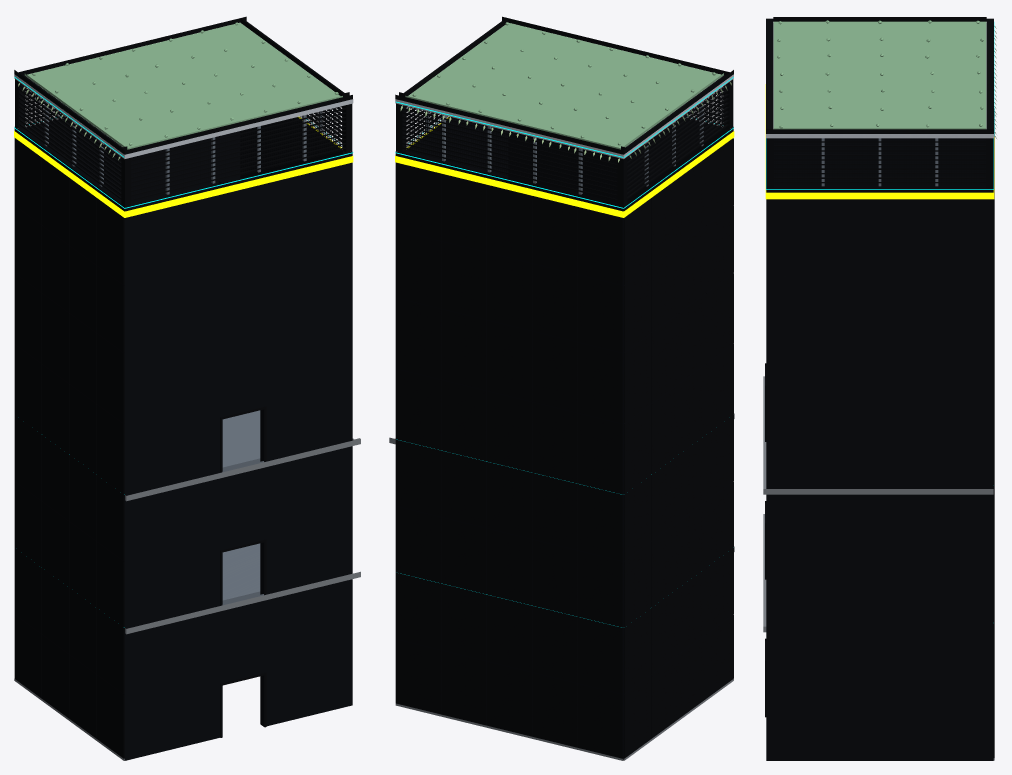
The model's file is tt_services_plant_stack_sw.glb.
3 renders of one model, left to right at view 1: azimuth 30°, elevation 25°; view 2: azimuth 150°, elevation 25°; view 3: azimuth 270°, elevation 25°, orthographic. The views are drawn at different scales.
Parts seen in each view (by area): view 1: Stack_Walls, Clad_Panels, Sedum_Roof, Louvre_Blades, Bird_Net_Scissor, Stack_Gratings, Cap_Rim, Slab_Closure, Hazard_Band, Cap_Slab, Door_Frames, Louvre_Posts (+1 smaller); view 2: Clad_Panels, Sedum_Roof, Stack_Walls, Louvre_Blades, Bird_Net_Scissor, Cap_Rim, Hazard_Band, Cap_Slab, Louvre_Posts, Louvre_Mullions, Clad_Plinth; view 3: Stack_Walls, Sedum_Roof, Louvre_Blades, Cap_Rim, Bird_Net_Scissor, Slab_Closure, Hazard_Band, Cap_Slab, Clad_Panels, Louvre_Posts, Door_Frames, Louvre_Mullions.
Part boxes in pixels (x1,y1,x2,y2): Stack_Walls: [14, 117, 352, 760]; Clad_Panels: [14, 139, 124, 758]; Sedum_Roof: [24, 22, 342, 149]; Louvre_Blades: [19, 85, 345, 200]; Bird_Net_Scissor: [24, 86, 342, 201]; Stack_Gratings: [222, 410, 263, 605]; Cap_Rim: [14, 16, 352, 154]; Slab_Closure: [125, 438, 360, 634]; Hazard_Band: [14, 116, 353, 217]; Cap_Slab: [14, 38, 353, 158]; Door_Frames: [220, 406, 266, 737]; Louvre_Posts: [15, 79, 352, 206]; Clad_Panels: [396, 139, 733, 758]; Sedum_Roof: [405, 22, 723, 149]; Stack_Walls: [395, 117, 733, 760]; Louvre_Blades: [402, 85, 729, 200]; Bird_Net_Scissor: [406, 86, 723, 201]; Cap_Rim: [395, 16, 733, 154]; Hazard_Band: [395, 116, 734, 217]; Cap_Slab: [395, 33, 733, 158]; Louvre_Posts: [396, 79, 733, 206]; Louvre_Mullions: [425, 101, 703, 194]; Clad_Plinth: [395, 679, 733, 760]; Stack_Walls: [766, 138, 993, 760]; Sedum_Roof: [773, 20, 986, 129]; Louvre_Blades: [774, 141, 985, 183]; Cap_Rim: [766, 17, 993, 133]; Bird_Net_Scissor: [774, 138, 985, 184]; Slab_Closure: [763, 376, 993, 632]; Hazard_Band: [765, 84, 994, 199]; Cap_Slab: [766, 23, 993, 138]; Clad_Panels: [993, 108, 994, 758]; Louvre_Posts: [766, 138, 993, 187]; Door_Frames: [765, 363, 766, 717]; Louvre_Mullions: [821, 138, 938, 186].
Size of what is drawn, in the model's own units: 11.42 by 28 by 9.41.
10 materials, 5 textured.
